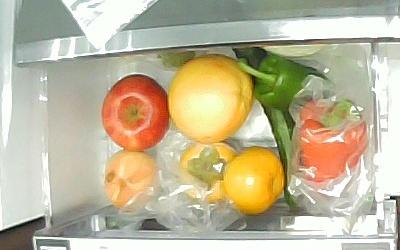apple: (98, 73, 169, 152)
cucumber: (232, 47, 302, 213)
grapefruit: (168, 53, 252, 142)
paprika: (234, 55, 333, 110)
paprika_vinyl: (294, 96, 366, 183)
peach_vinyl: (103, 149, 161, 211)
persimmon: (219, 147, 285, 215)
persimmon_vinyl: (177, 141, 240, 202)
